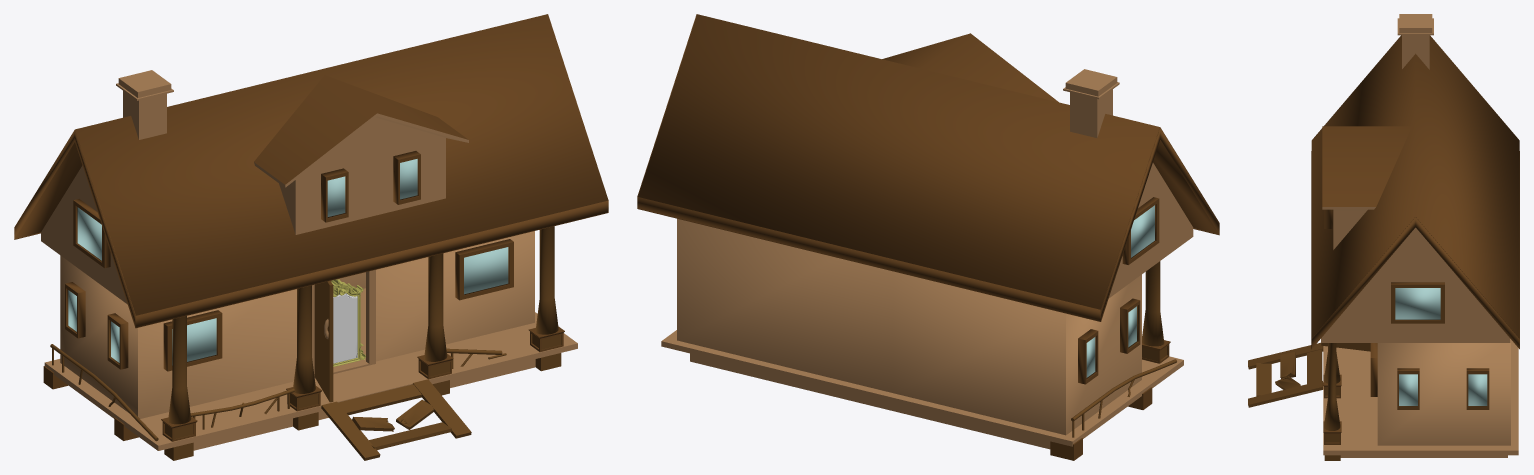
File: shack.fbx
The picture shows the model from 3 angles, left to right: view 1: azimuth 30°, elevation 25°; view 2: azimuth 150°, elevation 25°; view 3: azimuth 270°, elevation 25°; orthographic projection. The views are drawn at different scales.
Visible parts, largest first — view 1: shack, mirror; view 2: shack; view 3: shack.
Part boxes in pixels (x1,y1,x2,y2): shack: [14, 14, 608, 460]; mirror: [331, 279, 365, 366]; shack: [637, 14, 1219, 460]; shack: [1248, 14, 1519, 460].
Bounding box in the file's own units: 3693 × 2525 × 2139.
